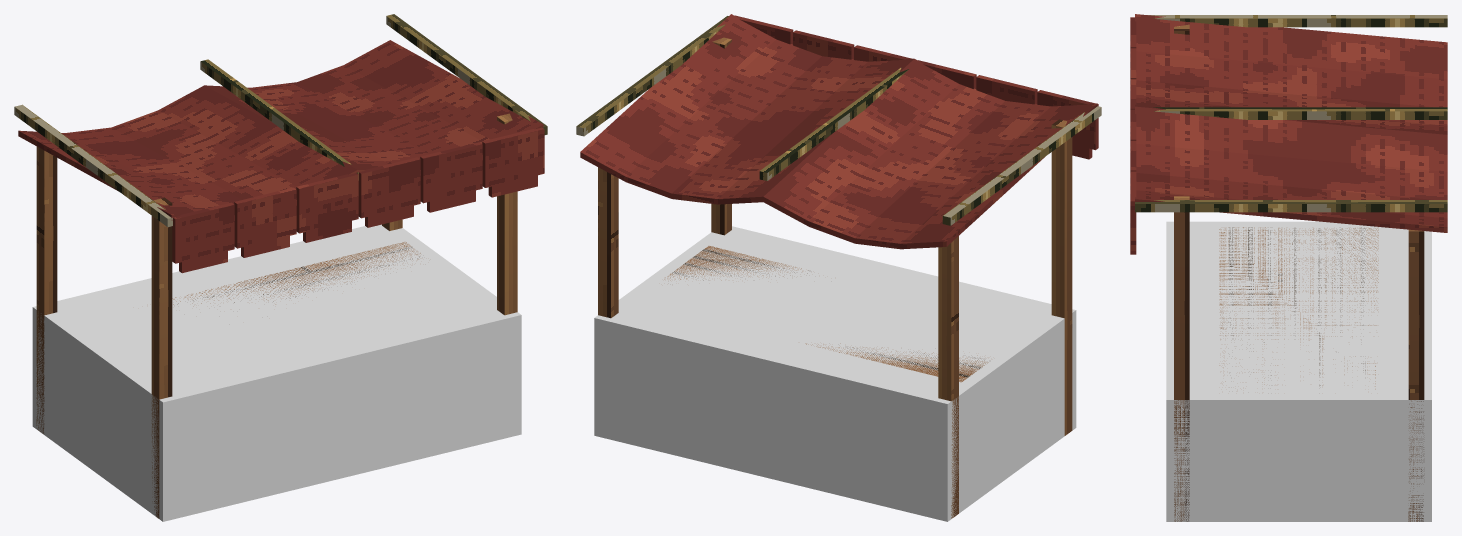
File: JP_Prop_MarketStall_A.glb
3 renders of one model, left to right at view 1: azimuth 30°, elevation 25°; view 2: azimuth 150°, elevation 25°; view 3: azimuth 270°, elevation 25°, orthographic. The views are drawn at different scales.
Visible parts, largest first — view 1: COL_JP_Prop_MarketStall_A, JP_Prop_MarketStall_A; view 2: COL_JP_Prop_MarketStall_A, JP_Prop_MarketStall_A; view 3: JP_Prop_MarketStall_A, COL_JP_Prop_MarketStall_A.
Boxes of the visible parts, x1,y1,x2,y2 form: COL_JP_Prop_MarketStall_A: [32, 224, 521, 521]; JP_Prop_MarketStall_A: [14, 14, 547, 518]; COL_JP_Prop_MarketStall_A: [594, 226, 1076, 521]; JP_Prop_MarketStall_A: [576, 14, 1101, 518]; JP_Prop_MarketStall_A: [1130, 14, 1447, 521]; COL_JP_Prop_MarketStall_A: [1166, 221, 1431, 521].
Bounding box in the file's own units: 2.86 × 2.3 × 2.03.
Materials: 4 (4 with a texture image).
